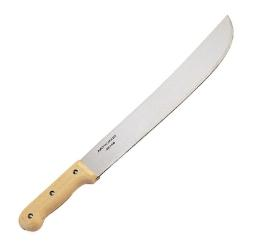MACHETTE: (0, 11, 237, 245)
